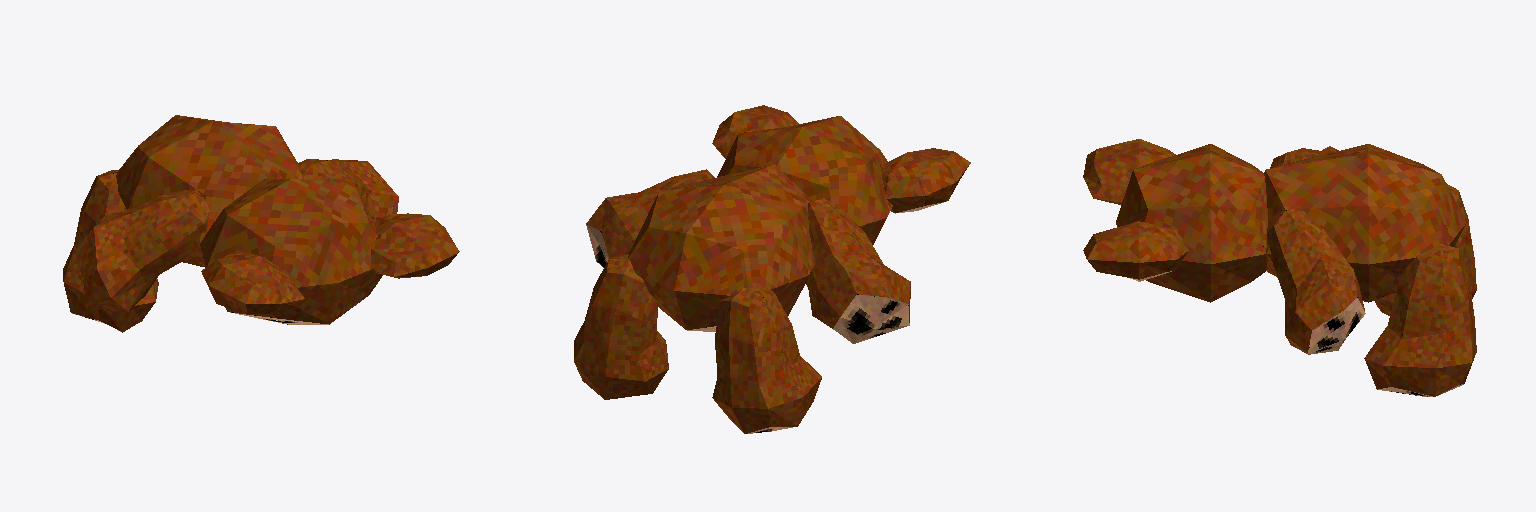
The picture shows the model from 3 angles: view 1: azimuth 30°, elevation 25°; view 2: azimuth 150°, elevation 25°; view 3: azimuth 270°, elevation 25°; orthographic projection.
Parts seen in each view (by area): view 1: Cube1_sep5, Cube1_copy10, Cube1_copy9, Cube1_sep6, Cube1, Cube1_copy11; view 2: Cube1_sep5, Cube1, Cube1_copy10, Cube1_copy8, Cube1_sep6, Cube1_copy11, Cube1_copy9; view 3: Cube1_sep5, Cube1_copy8, Cube1_copy11, Cube1_copy9, Cube1_sep6, Cube1, Cube1_copy10.
Boxes of the visible parts, x1,y1,x2,y2 form: Cube1_sep5: [116, 115, 382, 324]; Cube1_copy10: [74, 188, 209, 311]; Cube1_copy9: [370, 213, 459, 278]; Cube1_sep6: [201, 250, 304, 313]; Cube1: [63, 170, 158, 332]; Cube1_copy11: [296, 159, 398, 219]; Cube1_sep5: [628, 116, 892, 331]; Cube1: [712, 288, 821, 433]; Cube1_copy10: [806, 198, 910, 343]; Cube1_copy8: [574, 254, 668, 399]; Cube1_sep6: [882, 148, 970, 213]; Cube1_copy11: [586, 169, 714, 267]; Cube1_copy9: [712, 105, 798, 158]; Cube1_sep5: [1116, 144, 1465, 302]; Cube1_copy8: [1364, 244, 1476, 396]; Cube1_copy11: [1267, 208, 1365, 354]; Cube1_copy9: [1083, 221, 1188, 281]; Cube1_sep6: [1083, 139, 1175, 204]; Cube1: [1374, 184, 1476, 315]; Cube1_copy10: [1270, 146, 1338, 167].
Size of the model in its own units: 3.69 by 2.31 by 4.02.
Materials: 1 (1 with a texture image).